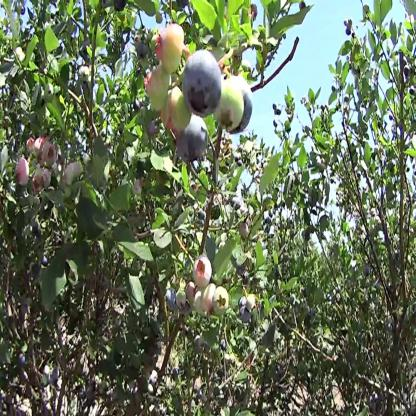intermediate: (145, 20, 187, 73), (142, 63, 169, 105), (158, 95, 187, 131), (14, 153, 30, 198), (193, 257, 210, 285), (25, 128, 35, 159), (36, 128, 43, 161)
mature: (182, 47, 219, 120), (180, 116, 216, 171), (244, 75, 264, 135)
young: (223, 72, 236, 146), (195, 284, 207, 333), (216, 277, 229, 320), (176, 288, 189, 321)
